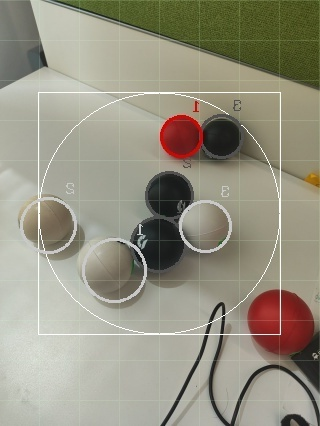Pelota blanca: (234, 363, 320, 425), (77, 236, 148, 310), (0, 0, 47, 89), (18, 193, 81, 256), (178, 198, 233, 254)
Pelota negra: (130, 214, 185, 272), (143, 169, 196, 219), (202, 113, 244, 160)
Pelota roja: (247, 286, 316, 355), (159, 113, 204, 160)
